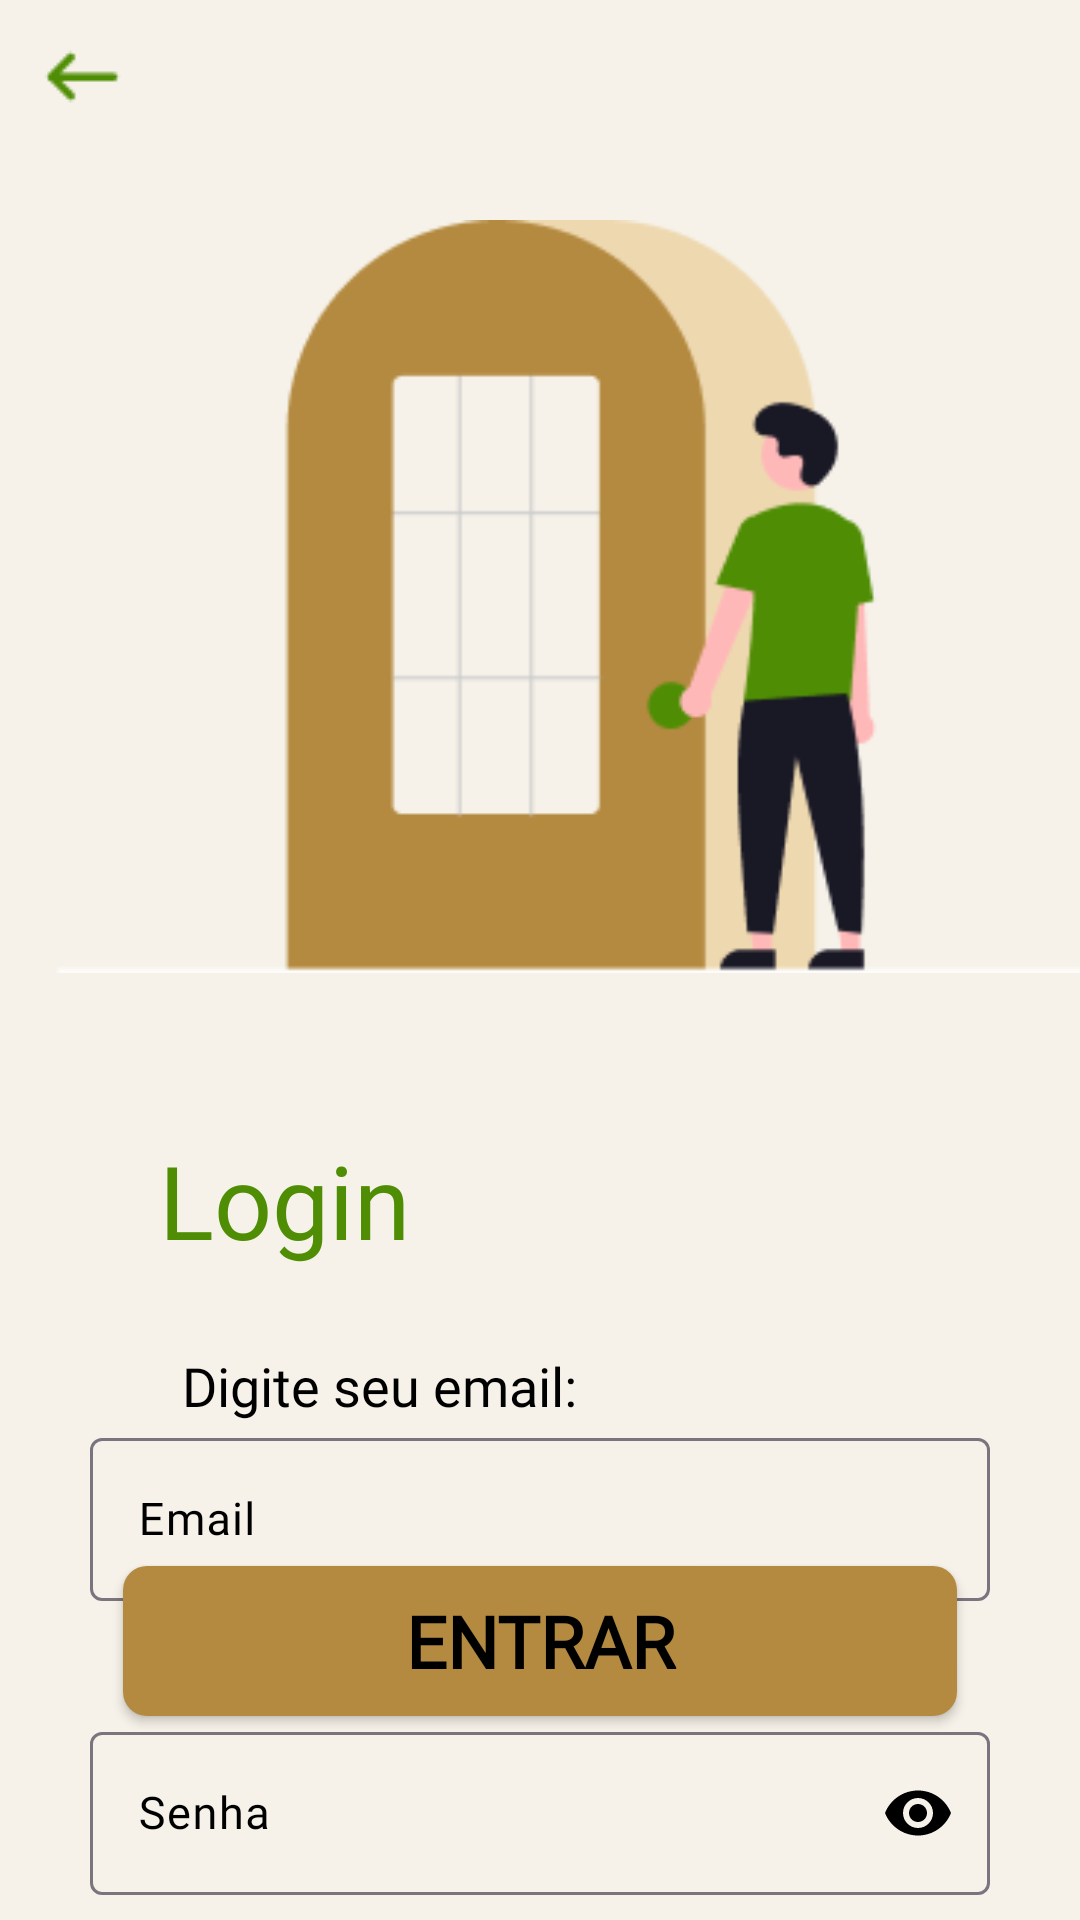

Icon click points for this 1080*1920 phone screenshot, format [x,y]:
seta: [82,76]
